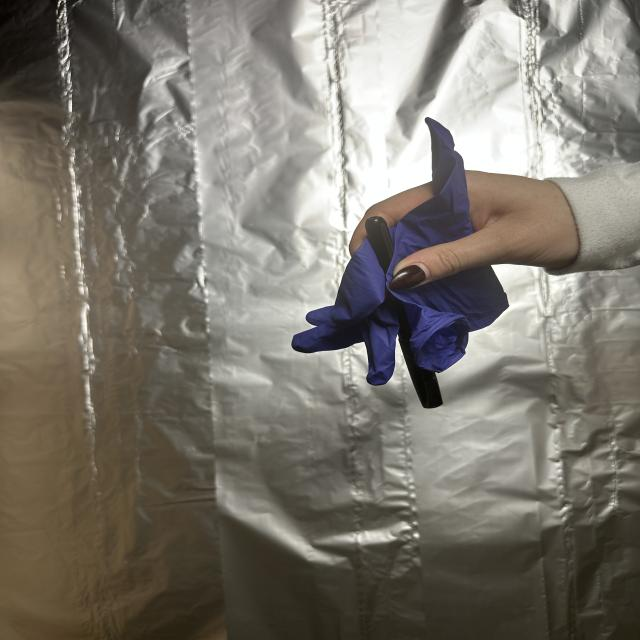glove_not_fitted: (286, 114, 586, 388)
